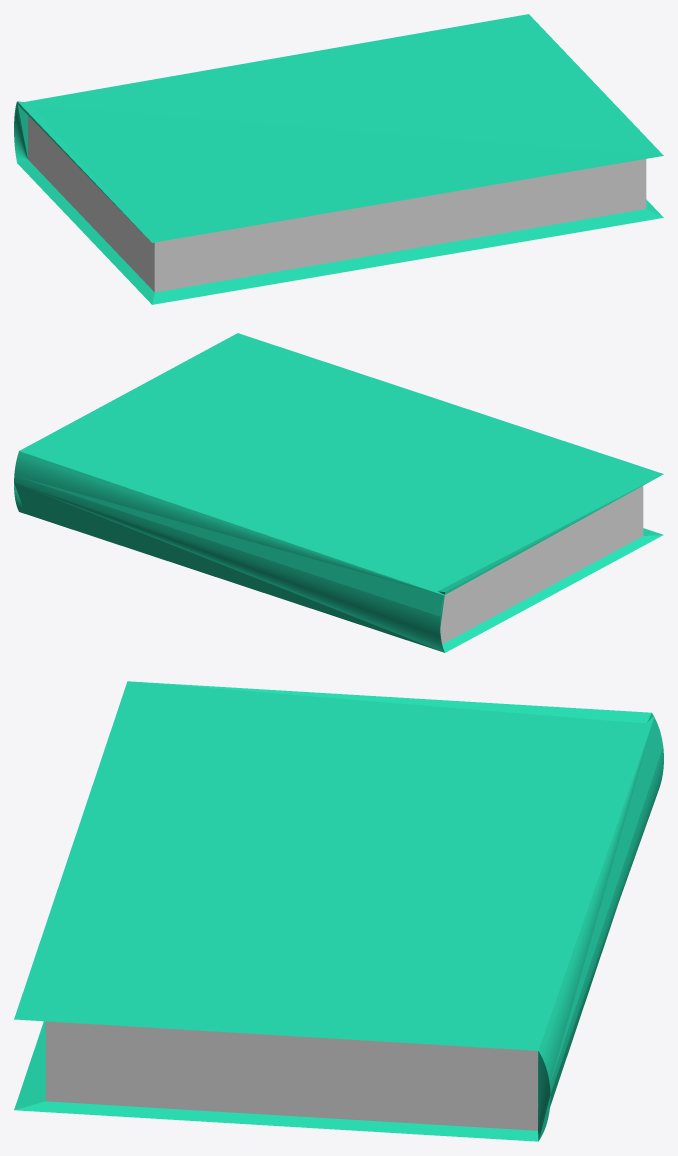
Rendered from Book.fbx.
3 views of the same model, one above another, from view 1: azimuth 30°, elevation 25°; view 2: azimuth 150°, elevation 25°; view 3: azimuth 270°, elevation 25° (orthographic). The views are drawn at different scales.
Visible parts, largest first — view 1: Cube.112; view 2: Cube.112; view 3: Cube.112.
Part boxes in pixels (x1,y1,x2,y2): Cube.112: (14, 14, 663, 304); Cube.112: (14, 333, 663, 652); Cube.112: (14, 681, 663, 1141).
Size of the model in its own units: 382 by 43.63 by 283.
